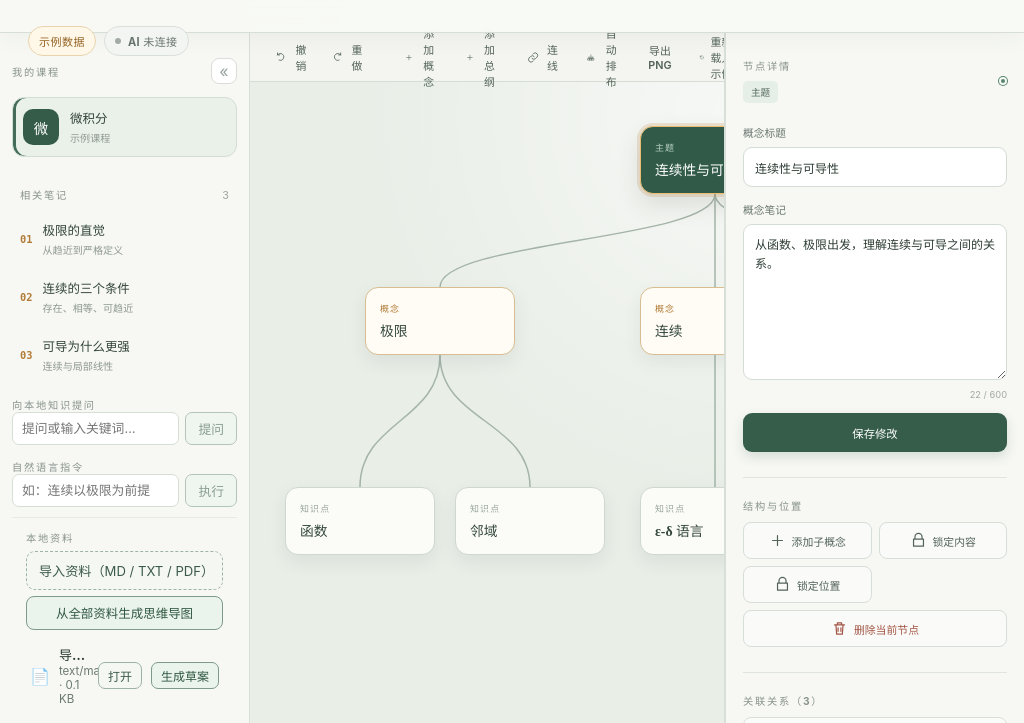
Test: resource import › opens a markdown resource in the text viewer
The width and height of the screenshot is (1024, 723).
Expected: the text "导数讲义.md" is shown, [59,645,89,664]
What coordinates should you click on to do the following:
click the button "打开"
I would click on:
 (120, 676)
Its box is [98,662,142,689].
(page scrolled)
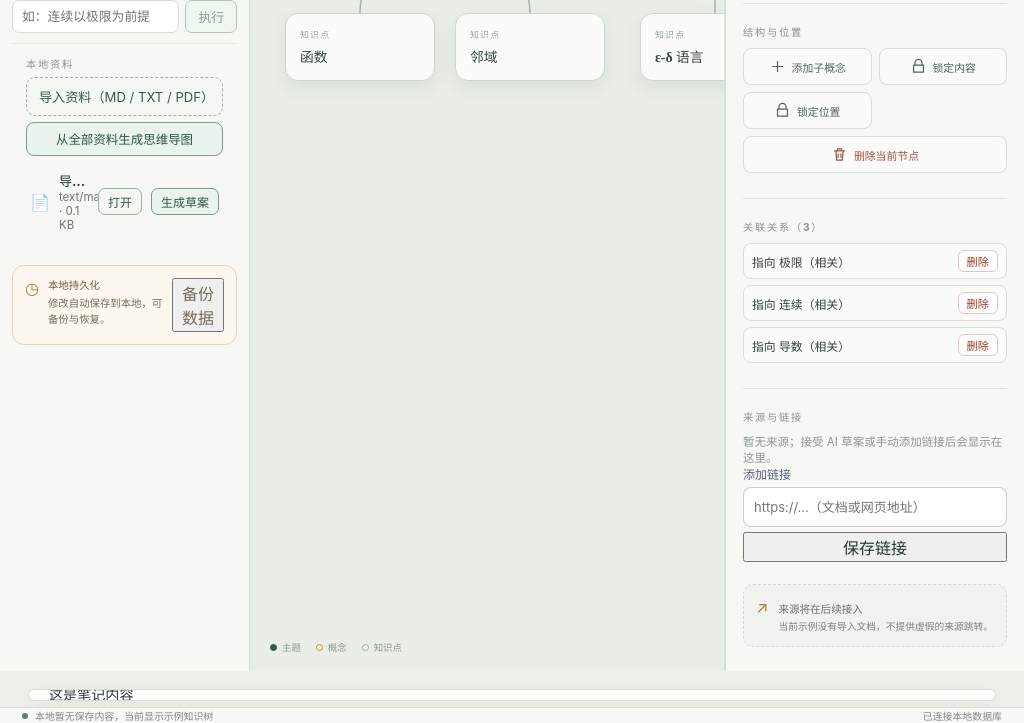
Expected: the text "这是笔记内容" is shown, [49,690,134,702]
